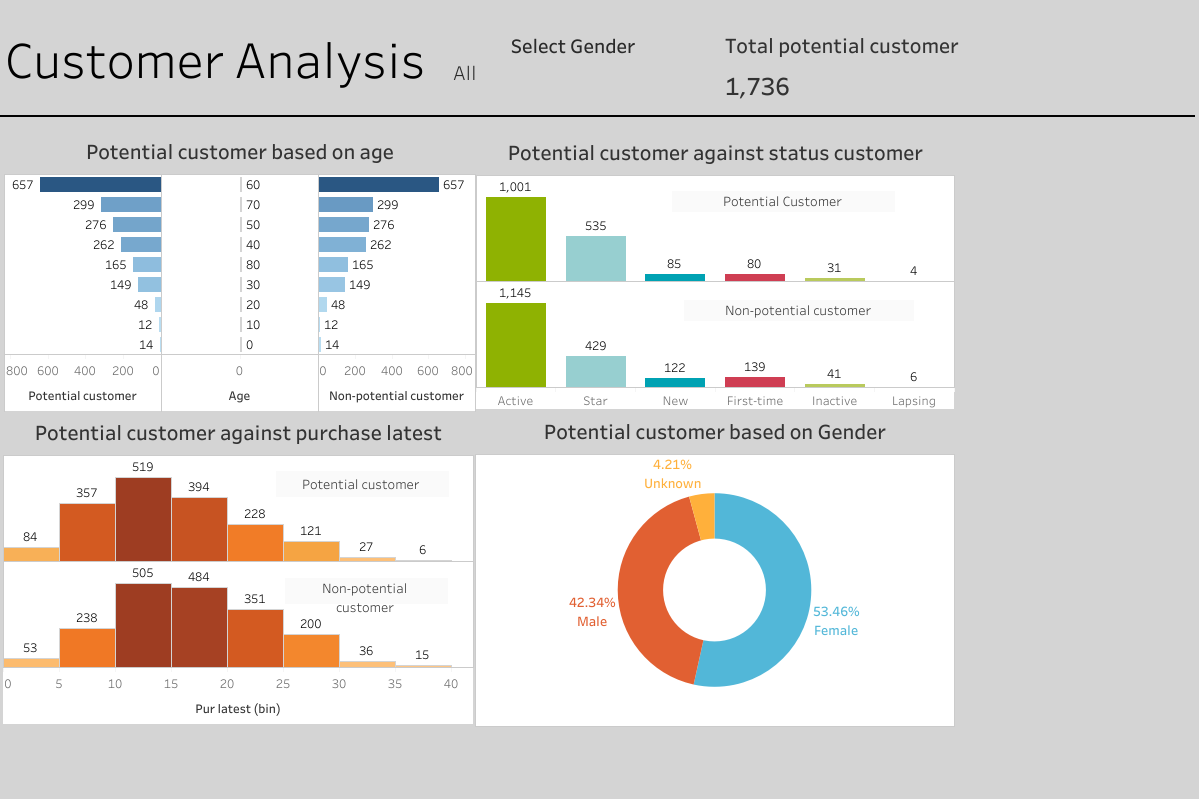

This screenshot's page, from the dashboard's own definition file:
{"tool":"tableau","page":{"name":"Dashboard 1","canvas":[1000,1000],"units":"permille","ordinal":0},"visuals":[{"type":"text","box":[1.7,21.2,445,102.5]},{"type":"worksheet","title":"Total potential customer","mark":"Automatic","box":[600.8,31.2,245.8,107.5]},{"type":"filter","title":"Potential customer based on Gender","param":"[federated.0khwtox0ugl3bk13rxre70h6fib2].[none:Gender:nk]","box":[375.8,38.8,203.3,88.8]},{"type":"worksheet","title":"Potential customer based on age","mark":"Automatic","rows":["Age (bin)"],"cols":["Calculation_1000221355328200704","Calculation_1000221355331665922","Calculation_1000221355328679937"],"box":[3.3,163.8,393.3,370]},{"type":"worksheet","title":"Potential customer against status customer","mark":"Automatic","rows":["Calculation_1000221355328200704","Calculation_1000221355328679937"],"cols":["Status_Cust"],"box":[396.7,165,399.2,347.5]},{"type":"worksheet","title":"Potential customer based on Gender","mark":"Pie","rows":["Calculation_1000221355331665922","Calculation_1000221355331665922"],"box":[395.8,513.8,400,395]},{"type":"worksheet","title":"Potential customer against purchase latest","mark":"Automatic","rows":["Calculation_1000221355328200704","Calculation_1000221355328679937"],"cols":["Pur latest (bin)"],"box":[2.5,515,392.5,391.2]}]}

Visuals, with their boxes on the dashboard's canvas, which has no fixed pixel size, in thousandths of its width and height (x1, y1, x2, y2). These are canvas units, not pixel positions in the 1199x799 screenshot, which may show the page scaled, cropped or inside an application window:
text: left=2, top=21, right=447, bottom=124
"Total potential customer" worksheet: left=601, top=31, right=847, bottom=139
"Potential customer based on Gender" filter: left=376, top=39, right=579, bottom=128
"Potential customer based on age" worksheet: left=3, top=164, right=397, bottom=534
"Potential customer against status customer" worksheet: left=397, top=165, right=796, bottom=512
"Potential customer based on Gender" worksheet (Pie marks): left=396, top=514, right=796, bottom=909
"Potential customer against purchase latest" worksheet: left=2, top=515, right=395, bottom=906
